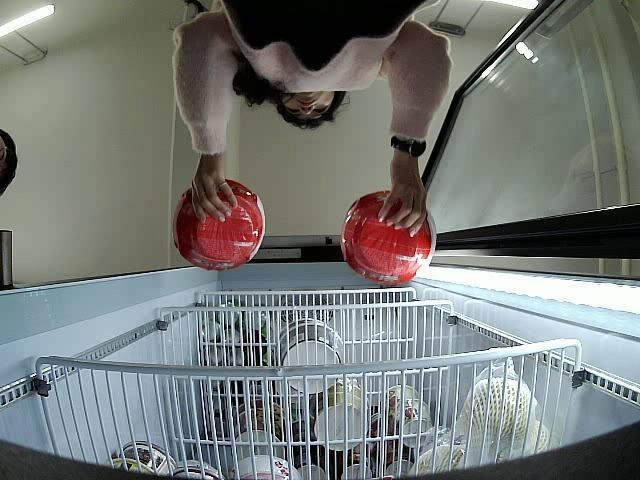10_wangTtukkeong: (340, 192, 437, 284), (171, 180, 266, 272)
